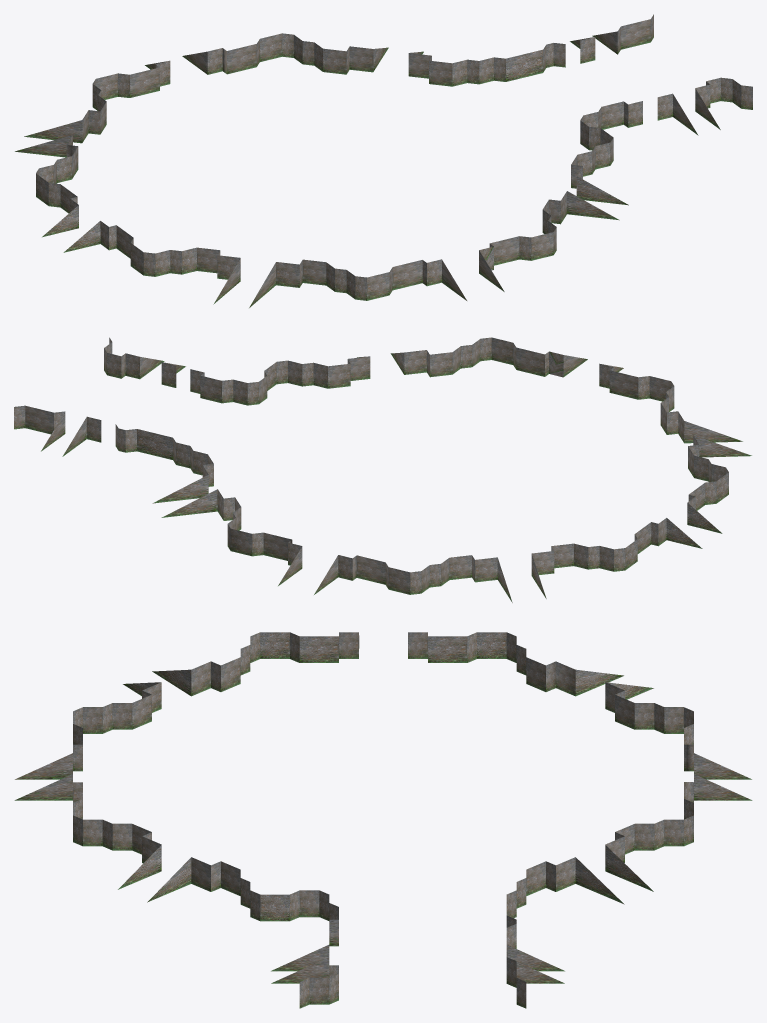
Rendered from skirts.fbx.
3 views of the same model, one above another, from view 1: azimuth 30°, elevation 25°; view 2: azimuth 150°, elevation 25°; view 3: azimuth 270°, elevation 25° (orthographic). The views are drawn at different scales.
Parts seen in each view (by area): view 1: polySurface261, polySurface258, polySurface260, polySurface262, polySurface253, polySurface263, polySurface259, polySurface264, polySurface255, polySurface256, polySurface254; view 2: polySurface253, polySurface259, polySurface263, polySurface264, polySurface258, polySurface261, polySurface262, polySurface260, polySurface256, polySurface255, polySurface257; view 3: polySurface264, polySurface260, polySurface253, polySurface258, polySurface263, polySurface259, polySurface261, polySurface262, polySurface255, polySurface256, polySurface254, polySurface257.
Part boxes in pixels (<box>): polySurface261: <box>249,259,466,307</box>; polySurface258: <box>182,33,388,74</box>; polySurface260: <box>63,221,240,304</box>; polySurface262: <box>408,43,565,86</box>; polySurface253: <box>571,101,642,205</box>; polySurface263: <box>479,191,619,291</box>; polySurface259: <box>24,60,170,143</box>; polySurface264: <box>15,135,78,237</box>; polySurface255: <box>695,77,752,129</box>; polySurface256: <box>592,14,653,54</box>; polySurface254: <box>657,93,698,135</box>; polySurface253: <box>190,356,370,405</box>; polySurface259: <box>314,555,512,602</box>; polySurface263: <box>390,337,587,377</box>; polySurface264: <box>531,518,702,598</box>; polySurface258: <box>161,489,302,585</box>; polySurface261: <box>599,363,742,443</box>; polySurface262: <box>115,424,213,503</box>; polySurface260: <box>687,435,751,533</box>; polySurface256: <box>14,405,65,451</box>; polySurface255: <box>104,337,164,379</box>; polySurface257: <box>62,416,101,456</box>; polySurface264: <box>408,632,623,696</box>; polySurface260: <box>152,632,359,696</box>; polySurface253: <box>147,857,338,946</box>; polySurface258: <box>605,774,752,891</box>; polySurface263: <box>14,774,161,889</box>; polySurface259: <box>605,682,751,779</box>; polySurface261: <box>15,682,161,779</box>; polySurface262: <box>506,857,624,948</box>; polySurface255: <box>271,957,338,1008</box>; polySurface256: <box>506,957,564,1008</box>; polySurface254: <box>271,945,329,971</box>; polySurface257: <box>506,945,564,971</box>.
Bounding box in the file's own units: 178 × 6 × 150.
